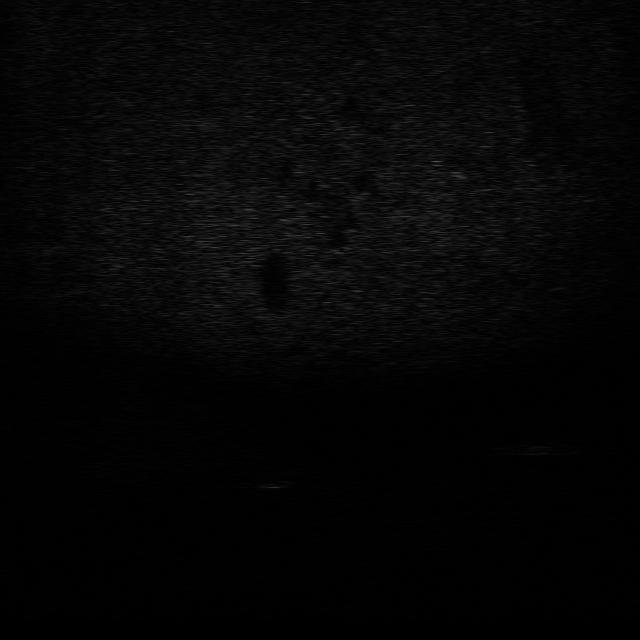ball: (251, 463, 295, 492)
human body: (485, 435, 587, 459)
